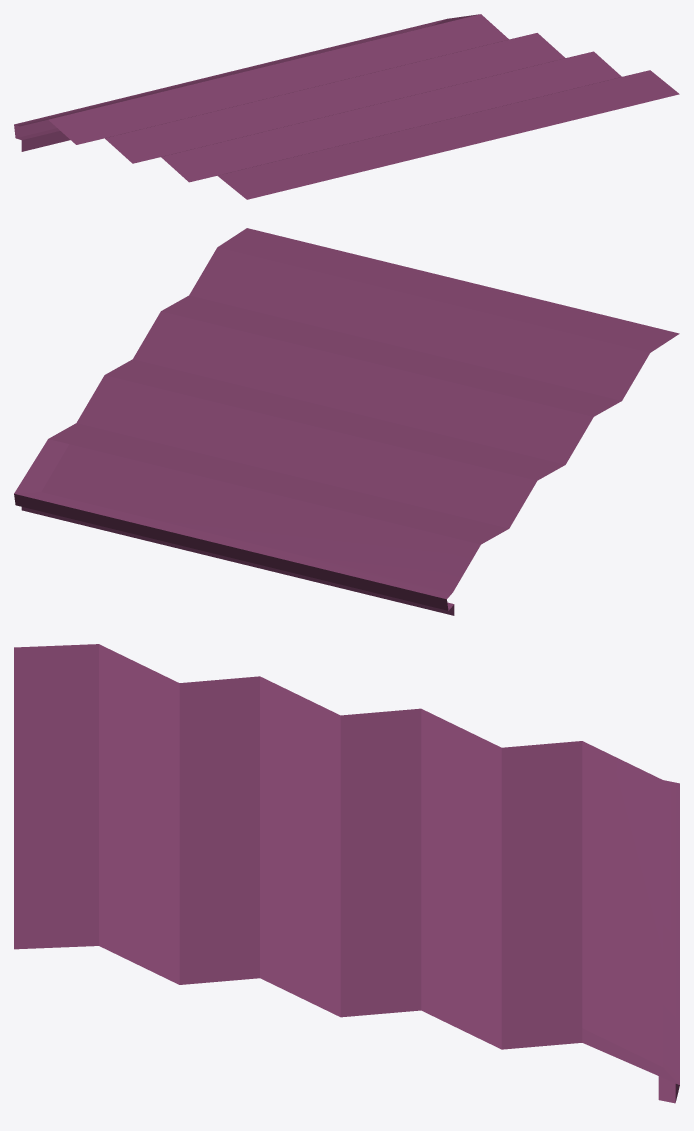
The model's file is Roof_Bent_3_Middle.fbx.
3 views of the same model, one above another, from view 1: azimuth 30°, elevation 25°; view 2: azimuth 150°, elevation 25°; view 3: azimuth 270°, elevation 25° (orthographic). The views are drawn at different scales.
Visible parts, largest first — view 1: Roof_Bent_3_Middle; view 2: Roof_Bent_3_Middle; view 3: Roof_Bent_3_Middle.
Part boxes in pixels (left/top/right/bottom): Roof_Bent_3_Middle: left=14, top=14, right=679, bottom=199; Roof_Bent_3_Middle: left=14, top=228, right=679, bottom=615; Roof_Bent_3_Middle: left=14, top=644, right=679, bottom=1103.
Size of the model in its own units: 4.43 by 1.17 by 4.13.
